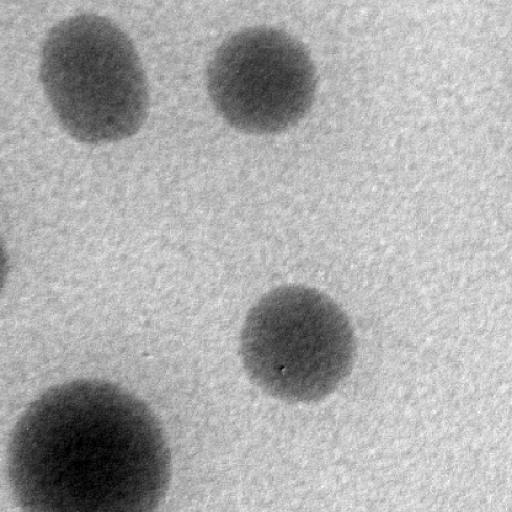Nanoparticles: (8, 378, 170, 512), (238, 283, 358, 402), (38, 14, 148, 138), (207, 26, 319, 131), (0, 235, 10, 299)
